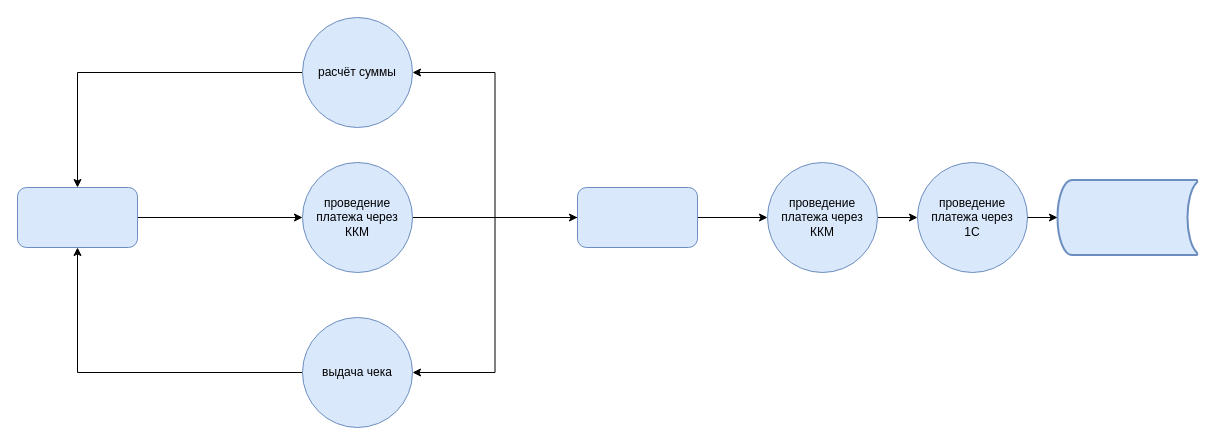
This 1216x445 diagram has some shape labels left out. Here are the shapes that lost their labels. From the top down, the box of each, then its label:
(16, 186, 138, 248): Patient
(576, 186, 698, 248): Cashier
(1056, 178, 1198, 256): 1С:Бухгалтерия [file]
